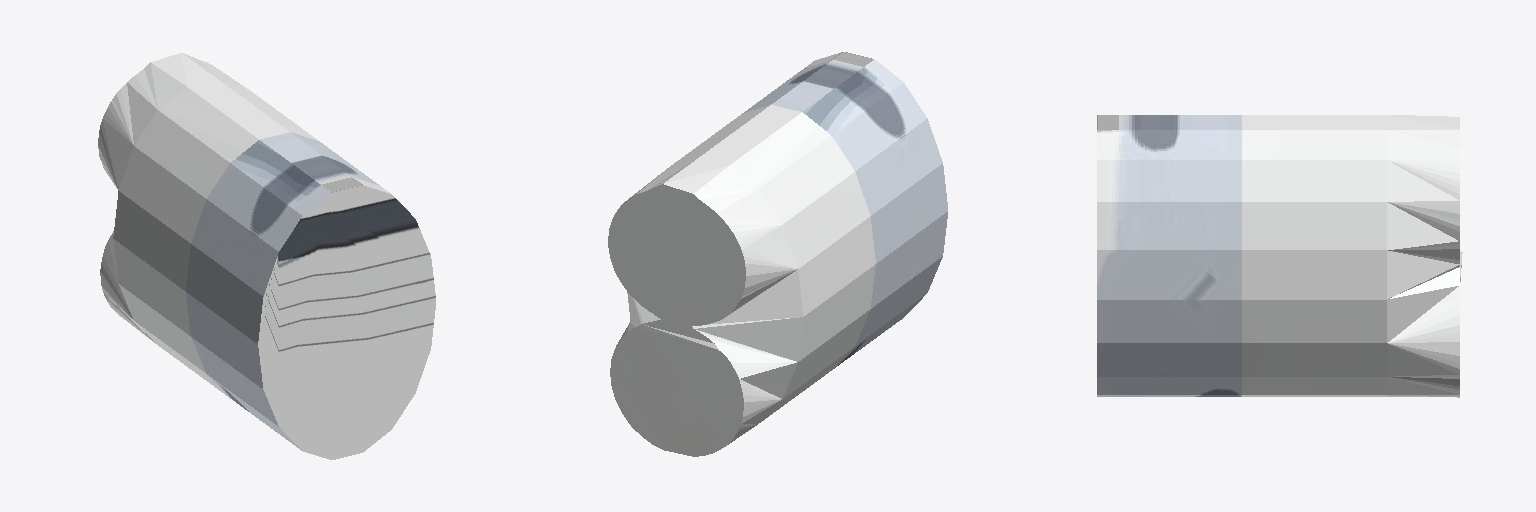
3 views of the same model, side by side, from view 1: azimuth 30°, elevation 25°; view 2: azimuth 150°, elevation 25°; view 3: azimuth 270°, elevation 25° (orthographic).
Parts seen in each view (by area): view 1: Cylinder006; view 2: Cylinder006; view 3: Cylinder006.
Boxes of the visible parts, x1,y1,x2,y2 form: Cylinder006: [98, 53, 435, 459]; Cylinder006: [608, 52, 947, 456]; Cylinder006: [1097, 115, 1462, 397].
Size of the model in its own units: 5.69 by 8.15 by 10.08.
1 materials, 1 textured.